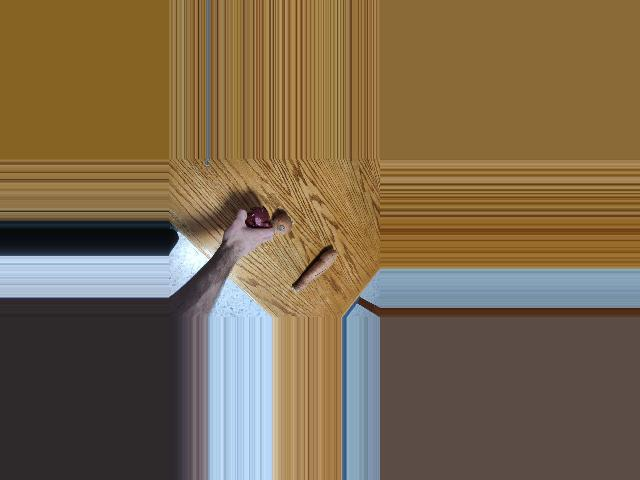onion: (267, 215, 291, 240)
